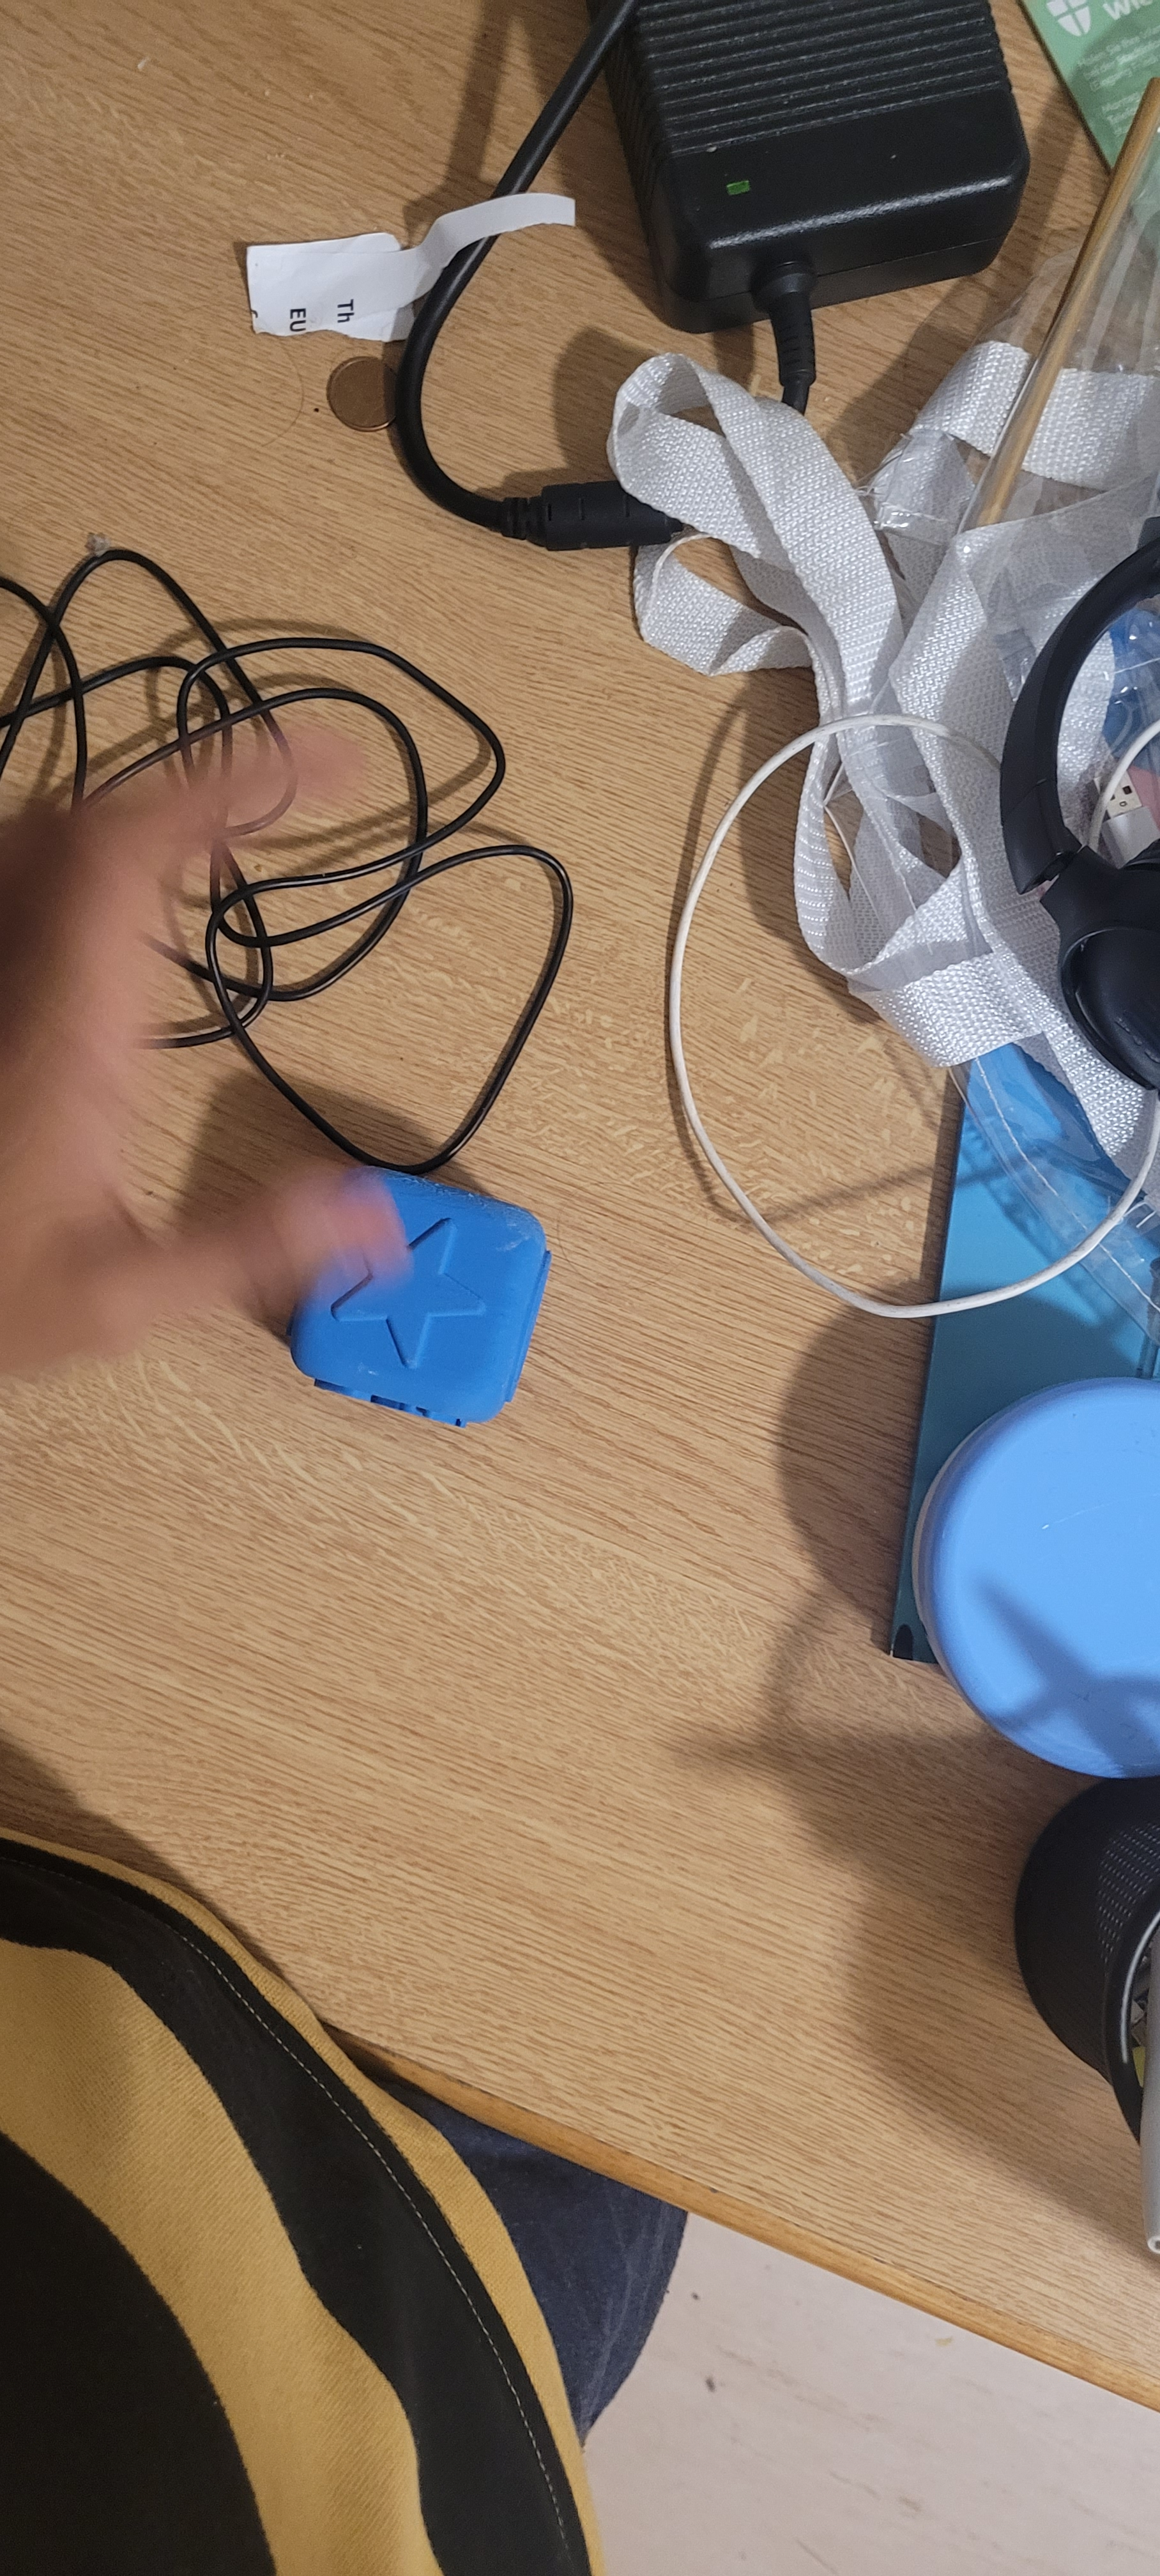Star: (314, 1203, 536, 1365)
